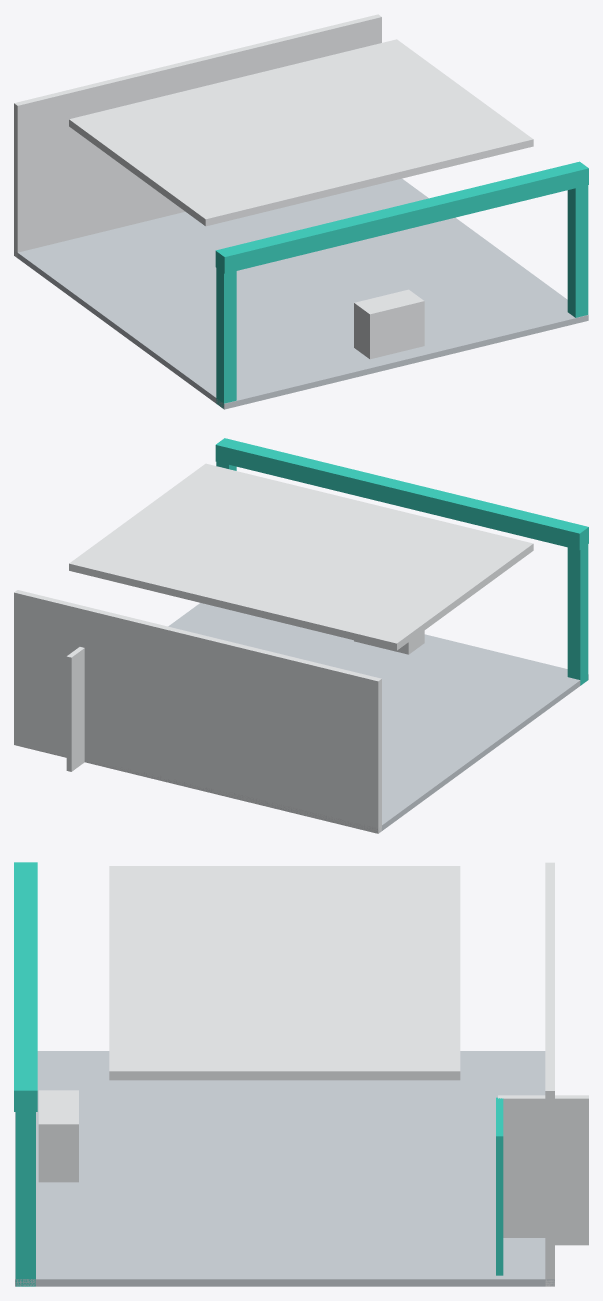
3 views of the same model, one above another, from view 1: azimuth 30°, elevation 25°; view 2: azimuth 150°, elevation 25°; view 3: azimuth 270°, elevation 25° (orthographic). The views are drawn at different scales.
Visible parts, largest first — view 1: Exhibition Booth Concept; view 2: Exhibition Booth Concept; view 3: Exhibition Booth Concept.
Boxes of the visible parts, x1=… form: Exhibition Booth Concept: x1=14, y1=14, x2=588, y2=409; Exhibition Booth Concept: x1=14, y1=438, x2=588, y2=833; Exhibition Booth Concept: x1=14, y1=862, x2=588, y2=1286.
Size of the model in its own units: 8 by 3.34 by 8.52.
